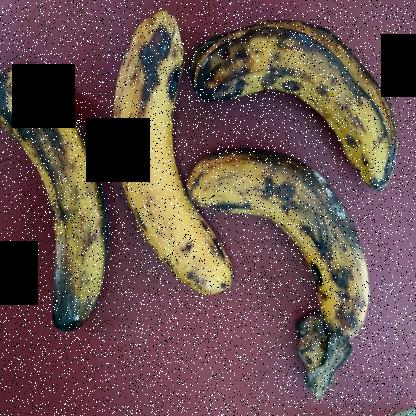overripe: (105, 0, 242, 309)
rotten: (191, 5, 412, 198), (203, 132, 381, 345), (0, 49, 117, 336)
